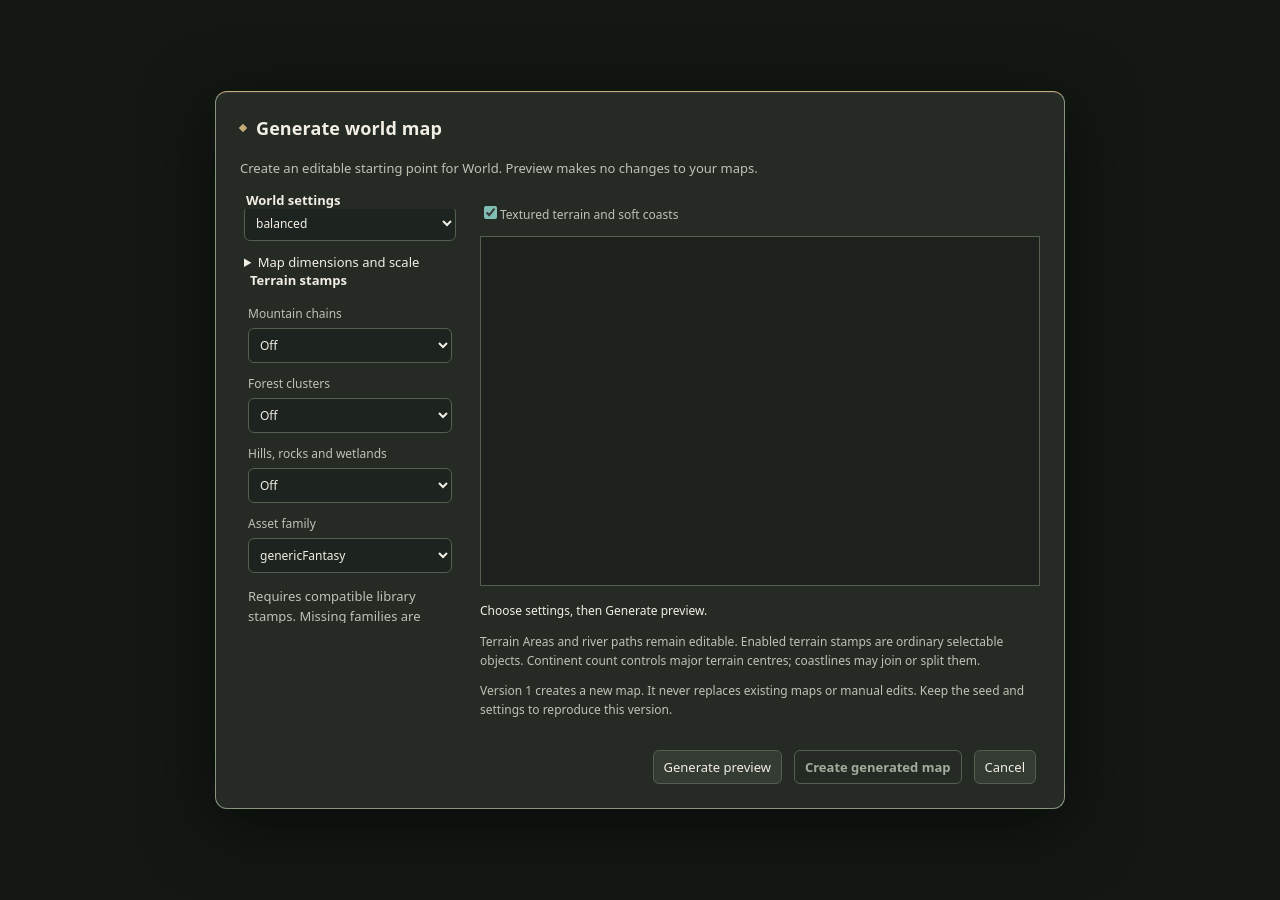
reports asset lookup failures without applying incomplete content
The image size is (1280, 900).
(page scrolled)
Select "Medium" in the dropdown named "forests stamp density" at (350, 415), box [248, 398, 452, 433]
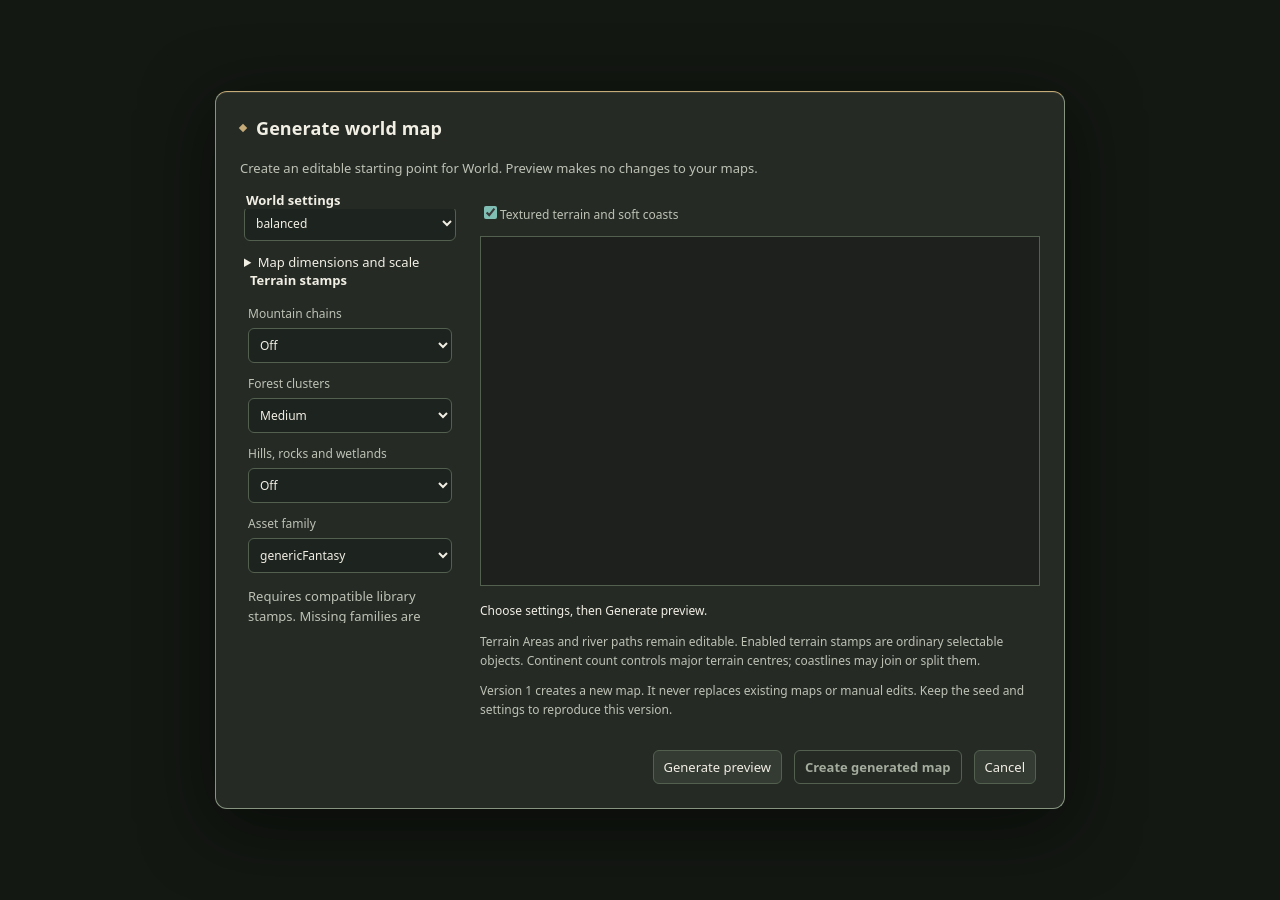
Click the button "Generate preview" at (717, 767), box [652, 750, 782, 784]
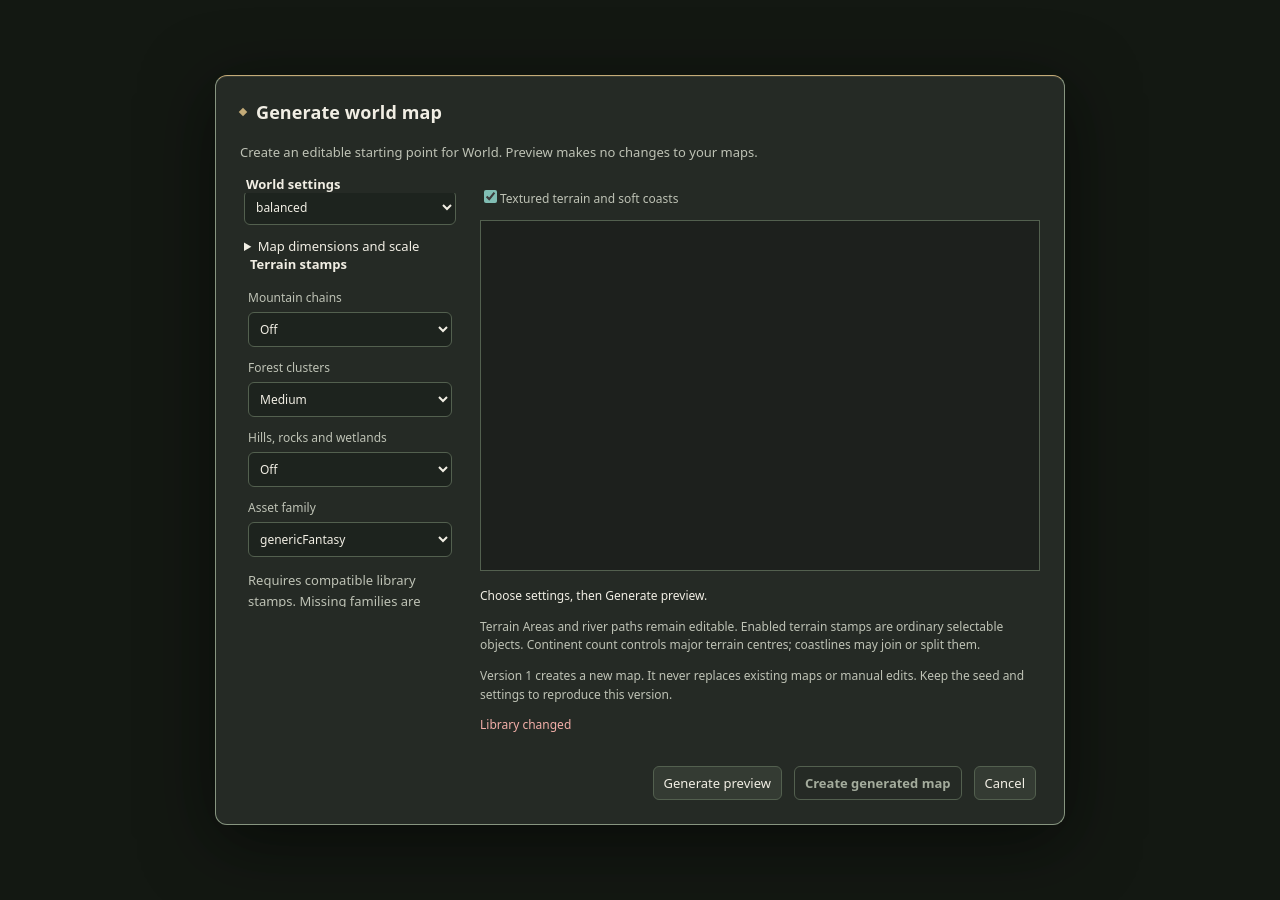
expect the message reads "Library changed": met, box [480, 716, 571, 733]
